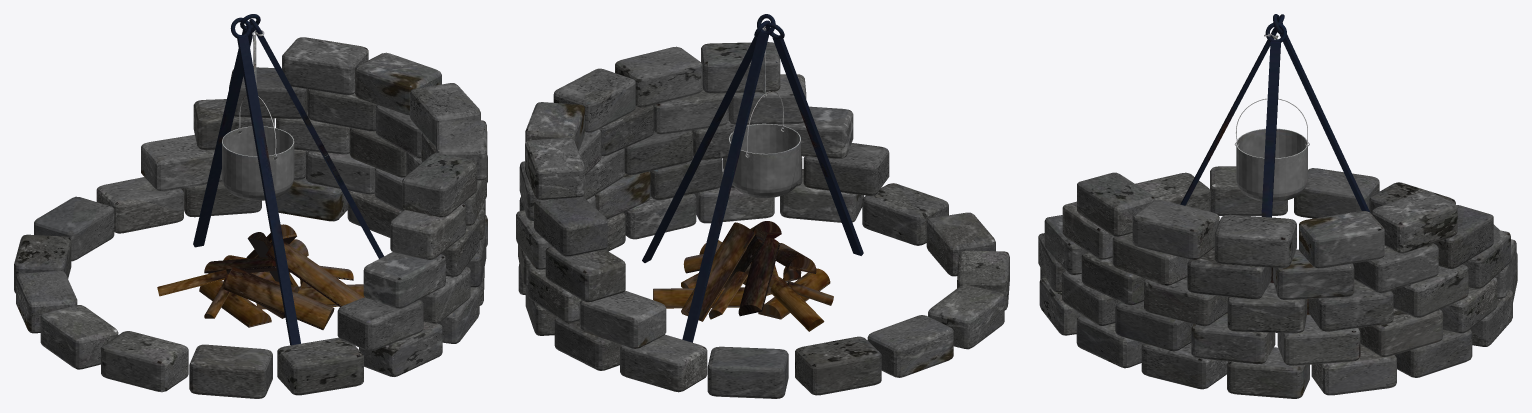
File: ArmyCamp.fbx
The picture shows the model from 3 angles, left to right: view 1: azimuth 30°, elevation 25°; view 2: azimuth 150°, elevation 25°; view 3: azimuth 270°, elevation 25°; orthographic projection.
Visible parts, largest first — view 1: Cylinder.001; view 2: Cylinder.001; view 3: Cylinder.001.
Boxes of the visible parts, <box> form: Cylinder.001: <box>14,14,487,398</box>; Cylinder.001: <box>516,14,1009,398</box>; Cylinder.001: <box>1038,14,1517,398</box>.
Bounding box in the file's own units: 200 × 131 × 198.
